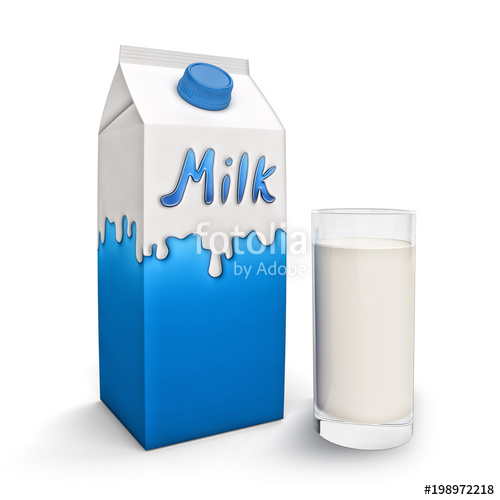glass of milk: (307, 200, 418, 465)
